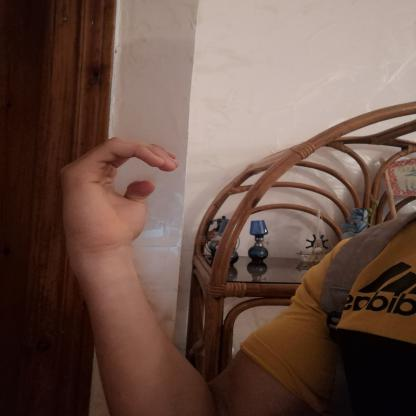JEEM: (41, 128, 194, 266)
